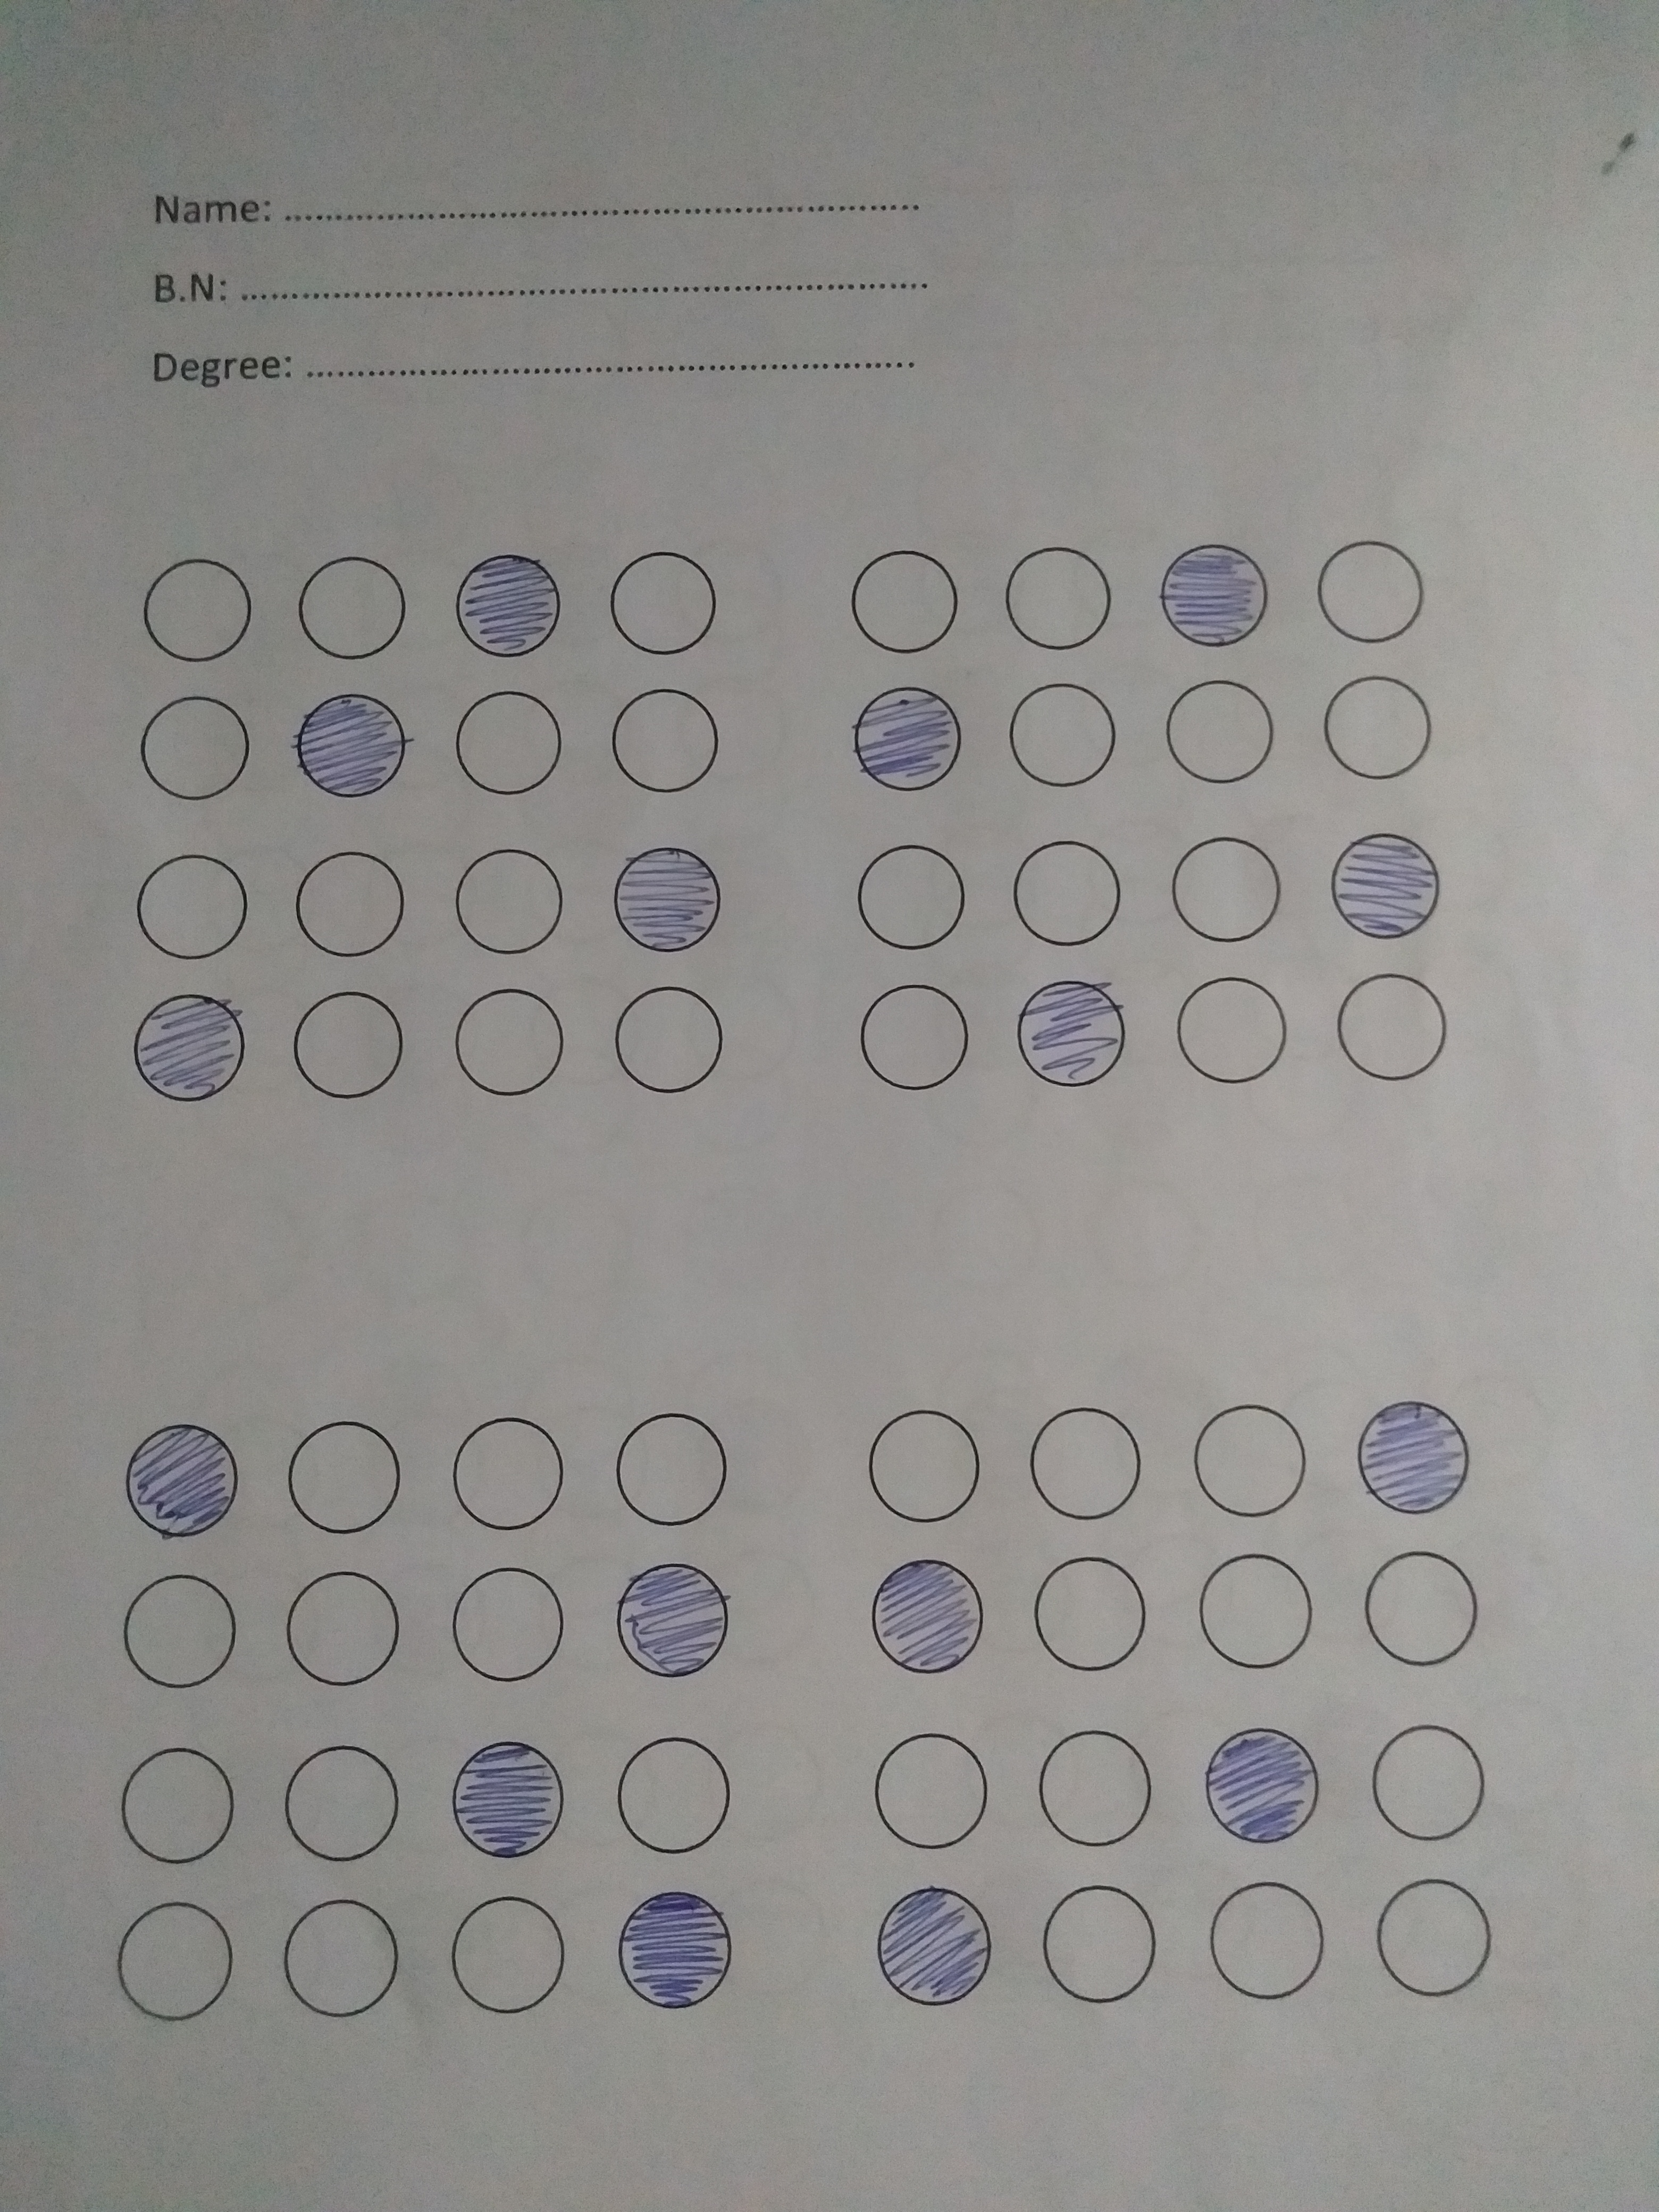not-c: (1028, 1552, 1161, 1684), (112, 1897, 242, 2031), (1368, 1878, 1500, 2008), (1356, 1721, 1488, 1851), (1345, 1545, 1478, 1676), (1201, 1878, 1333, 2008), (1195, 1554, 1328, 1684), (1035, 1879, 1168, 2010), (1028, 1717, 1161, 1848), (861, 1726, 993, 1857), (608, 1723, 741, 1853), (436, 1898, 568, 2029), (267, 1893, 399, 2024), (275, 1740, 408, 1871), (436, 1561, 568, 1691), (113, 1740, 239, 1869), (854, 843, 981, 960), (448, 986, 575, 1103), (132, 850, 260, 967), (127, 554, 254, 671), (594, 676, 721, 792), (1152, 683, 1279, 799), (997, 672, 1124, 789), (985, 538, 1112, 655), (1309, 535, 1436, 651), (1317, 674, 1445, 791), (608, 1411, 735, 1527), (1021, 1406, 1148, 1522), (852, 981, 978, 1097), (847, 543, 972, 660), (606, 982, 732, 1099), (291, 843, 416, 960), (446, 843, 572, 960), (450, 686, 575, 803), (134, 688, 260, 805), (282, 556, 408, 672), (1164, 970, 1290, 1087), (1187, 1400, 1312, 1517), (281, 1573, 406, 1689), (286, 1413, 411, 1529), (448, 1414, 573, 1531), (864, 1413, 990, 1529), (1331, 970, 1459, 1085), (598, 540, 725, 655), (284, 989, 411, 1104), (1161, 831, 1288, 946), (993, 838, 1119, 953), (115, 1571, 240, 1686)
taken-c: (857, 1545, 990, 1677), (603, 1557, 735, 1689), (1345, 1392, 1478, 1522), (1197, 1721, 1330, 1851), (606, 1885, 739, 2015), (439, 1733, 572, 1864), (870, 1881, 1002, 2012), (117, 1411, 249, 1541), (120, 982, 251, 1106), (1319, 827, 1448, 949), (603, 836, 728, 958), (840, 683, 967, 799), (439, 547, 566, 664), (1150, 536, 1276, 653), (1009, 972, 1131, 1090), (289, 685, 415, 799)
